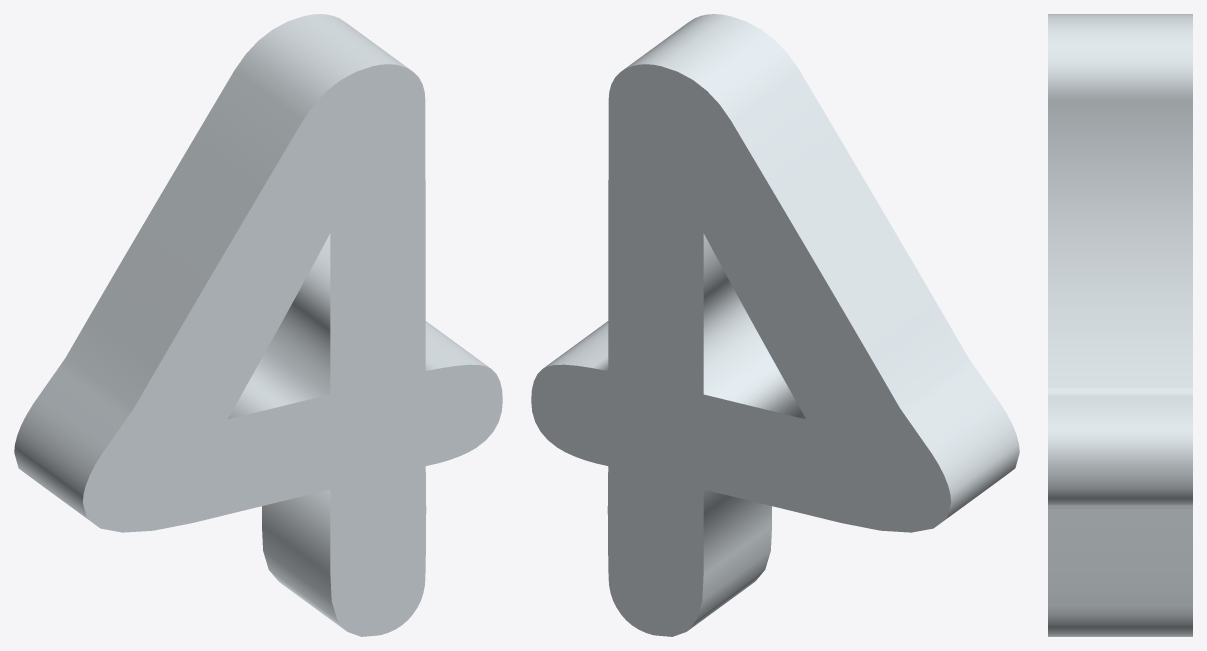
File: NumberFour.fbx
3 views of the same model, side by side, from view 1: azimuth 30°, elevation 25°; view 2: azimuth 150°, elevation 25°; view 3: azimuth 270°, elevation 25° (orthographic). The views are drawn at different scales.
Visible parts, largest first — view 1: Text.005; view 2: Text.005; view 3: Text.005.
Part boxes in pixels (<box>): Text.005: <box>14,14,502,636</box>; Text.005: <box>531,14,1019,636</box>; Text.005: <box>1048,14,1192,636</box>.
Bounding box in the file's own units: 42.43 × 55.11 × 12.
